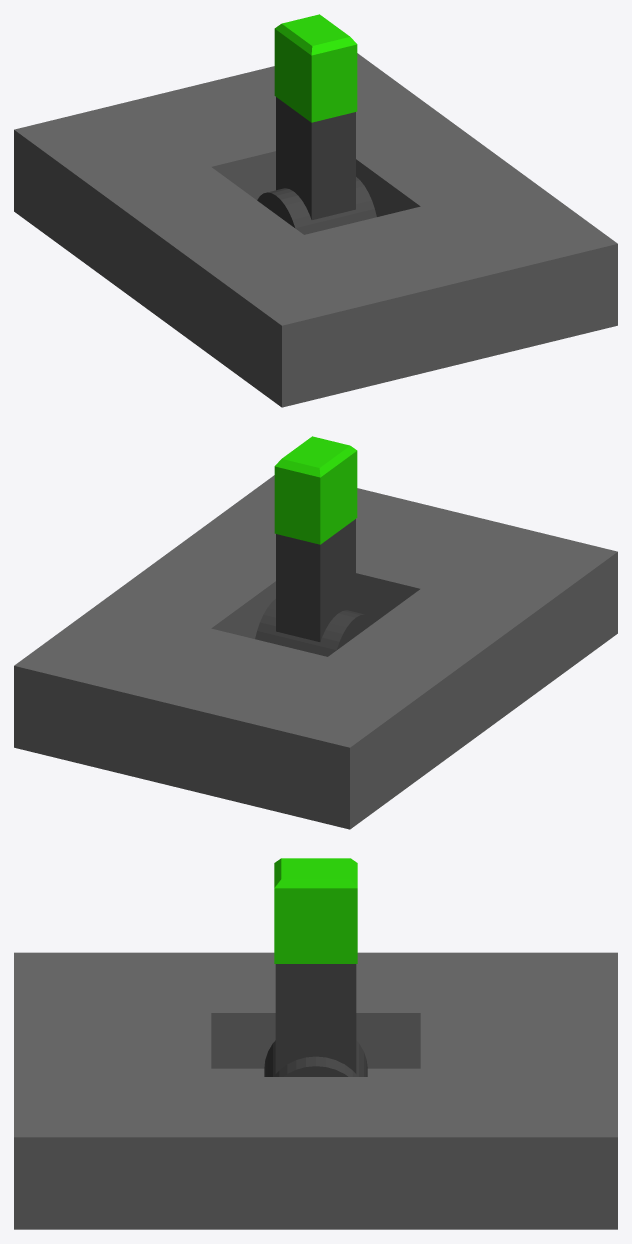
File: GreenSwitch.glb
3 renders of one model, top to bottom at view 1: azimuth 30°, elevation 25°; view 2: azimuth 150°, elevation 25°; view 3: azimuth 270°, elevation 25°, orthographic. The views are drawn at different scales.
Parts seen in each view (by area): view 1: Base, Switch, Cube; view 2: Base, Switch, Cube; view 3: Base, Switch, Cube.
Part boxes in pixels (<box>): Base: <box>14,53,617,407</box>; Switch: <box>257,97,376,234</box>; Cube: <box>274,14,357,122</box>; Base: <box>14,475,617,829</box>; Switch: <box>255,519,374,656</box>; Cube: <box>274,436,357,544</box>; Base: <box>14,952,617,1229</box>; Switch: <box>264,964,367,1076</box>; Cube: <box>274,858,357,963</box>.
Bounding box in the file's own units: 0.0463 × 0.0315 × 0.0639.
